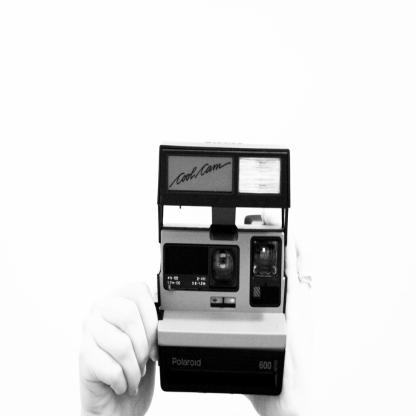Camera: (155, 142, 293, 398)
